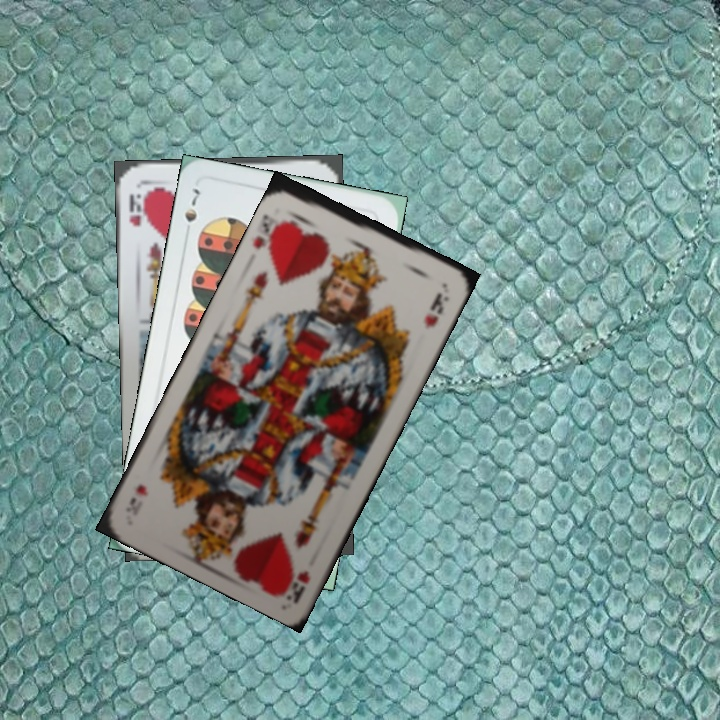HK: (248, 210, 289, 258), (125, 185, 150, 228), (287, 566, 312, 602)
S7: (180, 184, 203, 241)
